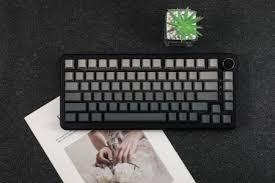keyboard: (59, 52, 239, 130)
